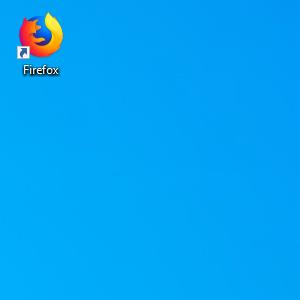firefox: (16, 10, 64, 59)
